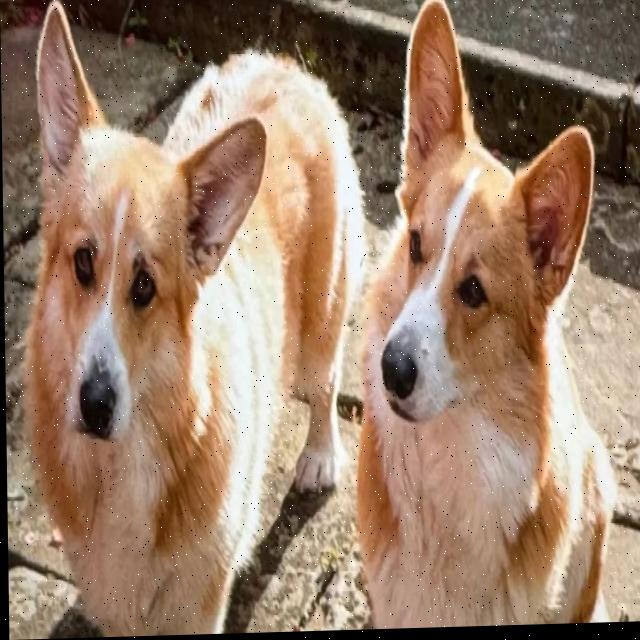CORGI: (19, 0, 359, 640), (348, 0, 636, 632)
